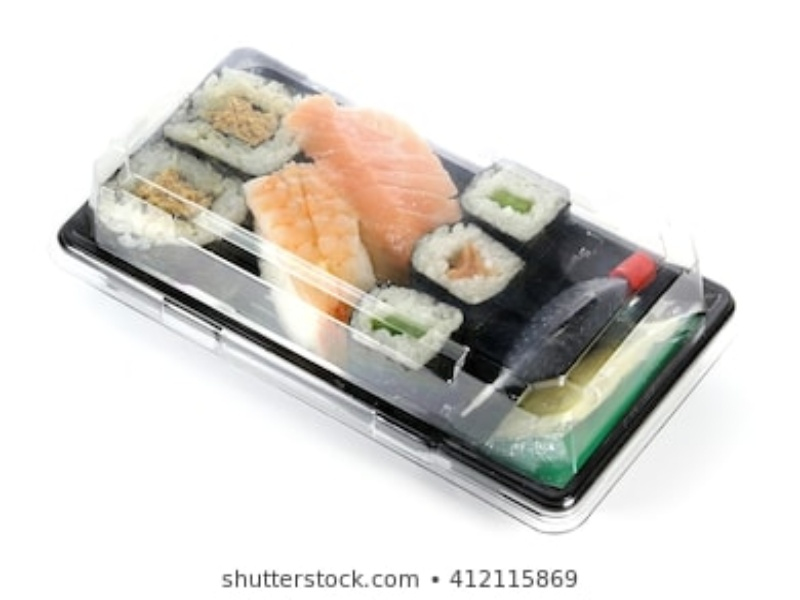plastic-container: (56, 38, 737, 537)
